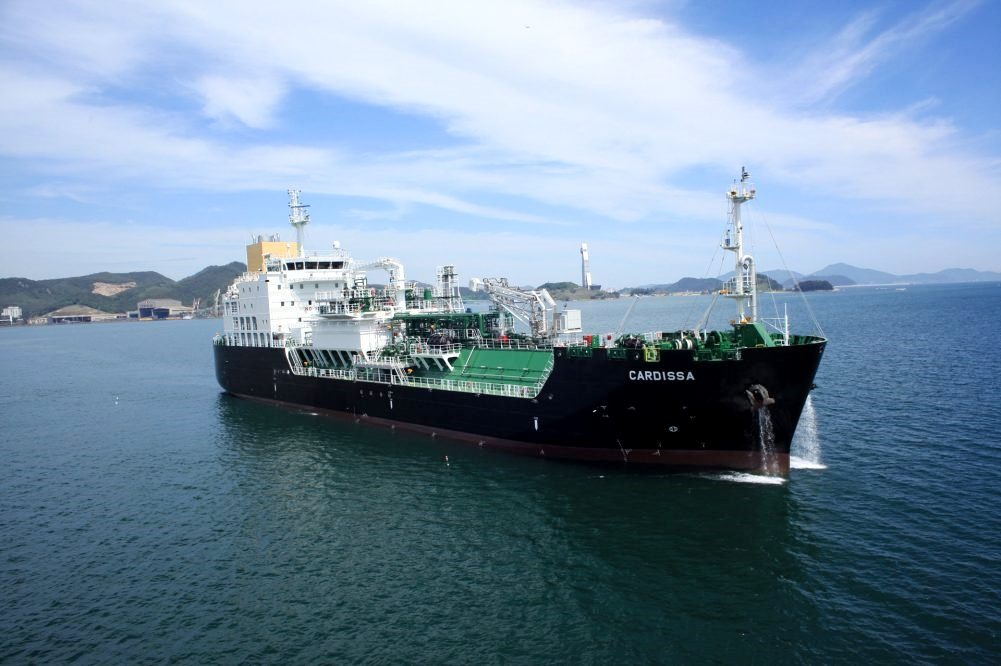Cargoship: (212, 199, 829, 476)
